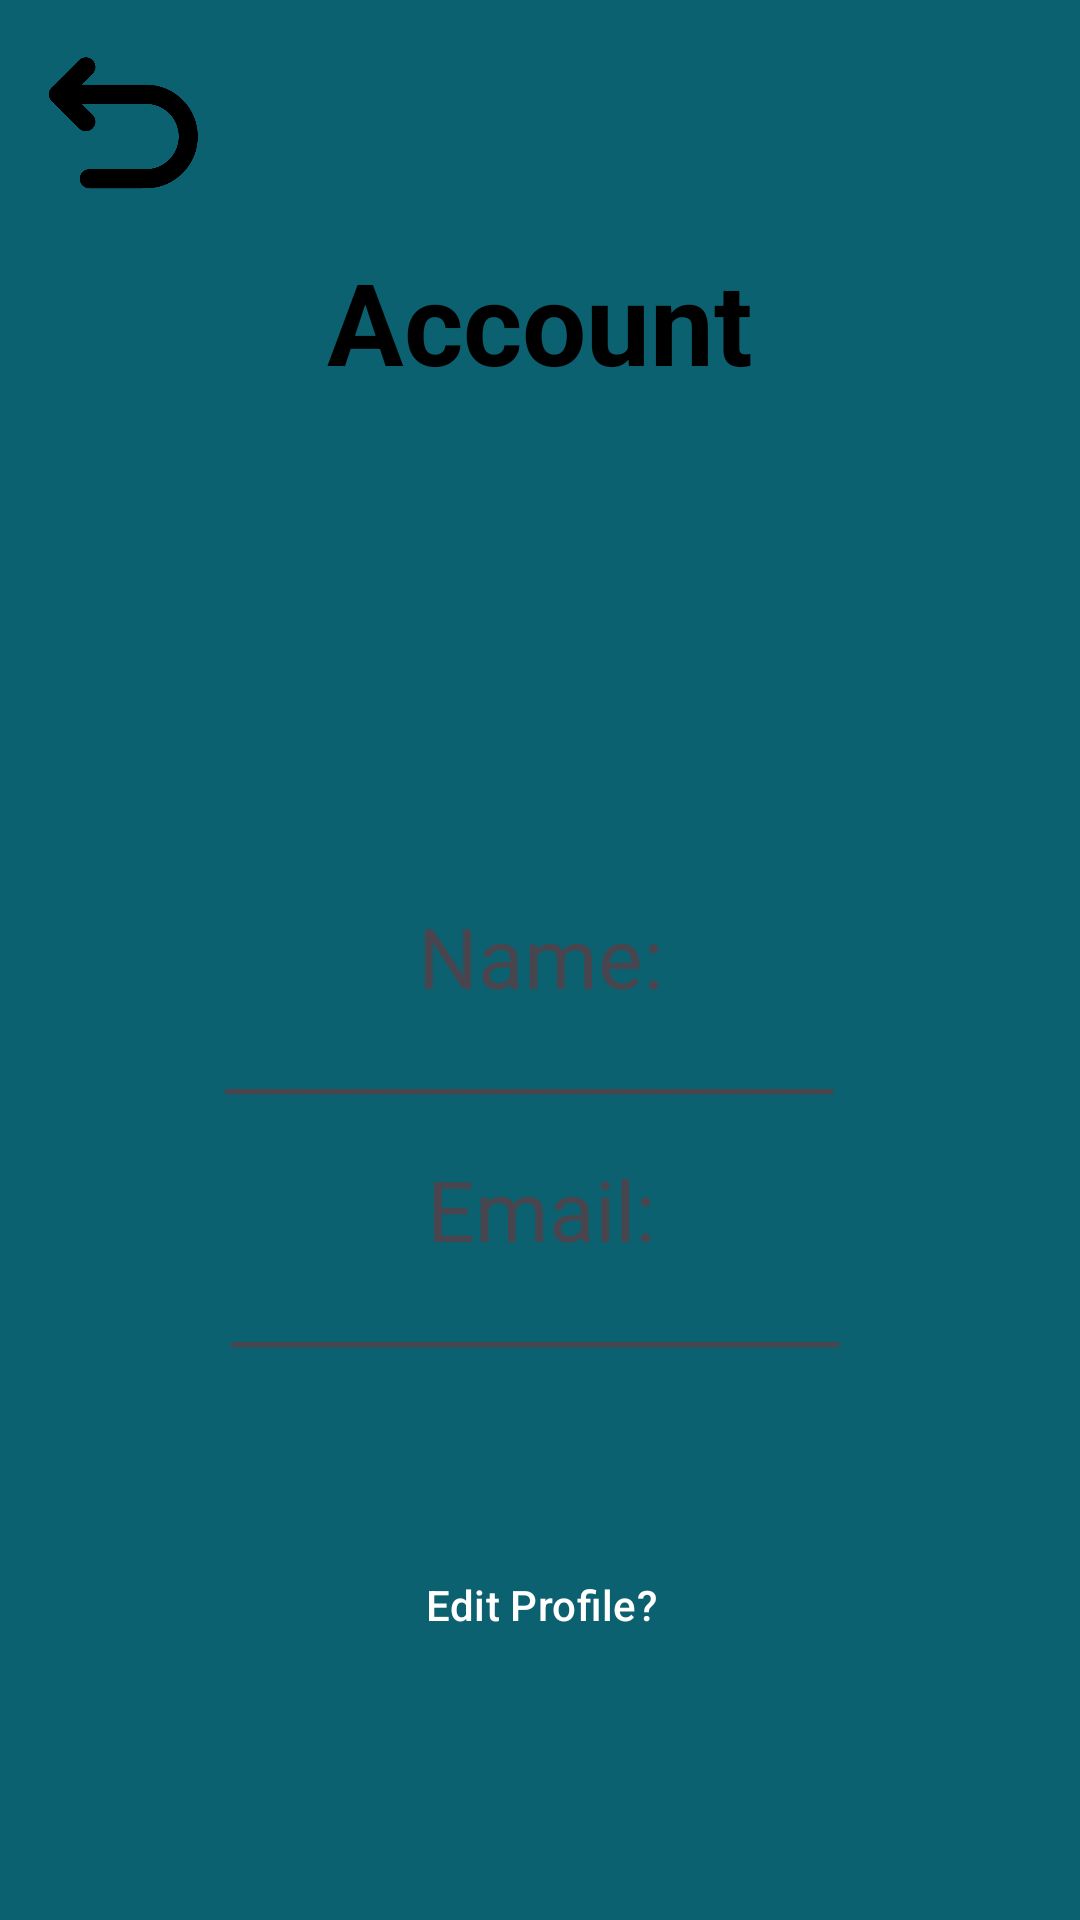

Locate icon controls on the screen. Image size 1080px×1920px, boxes as (x1, y1, x2, y2).
backarrow: (49, 57, 198, 189)
